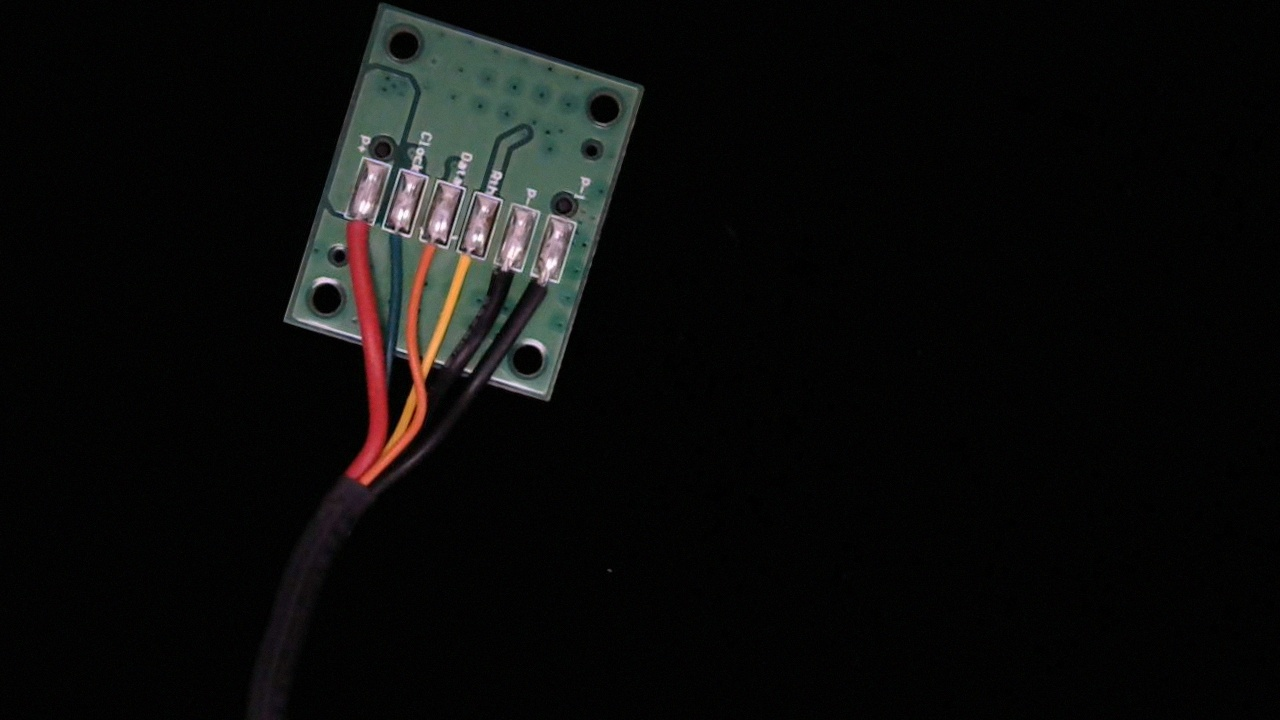Black: (474, 248, 525, 325)
Black1: (513, 260, 564, 332)
Green: (369, 215, 417, 279)
Orange: (403, 224, 452, 292)
Red: (329, 201, 381, 271)
Yellow: (438, 236, 488, 308)
